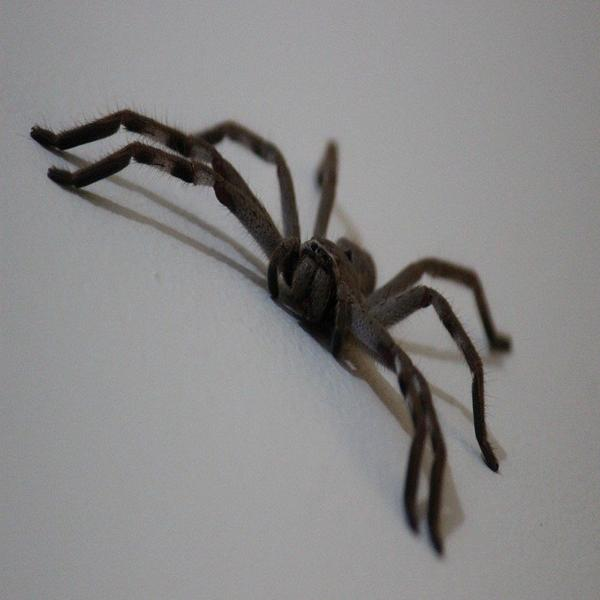Huntsman Spider: (39, 107, 507, 541)
